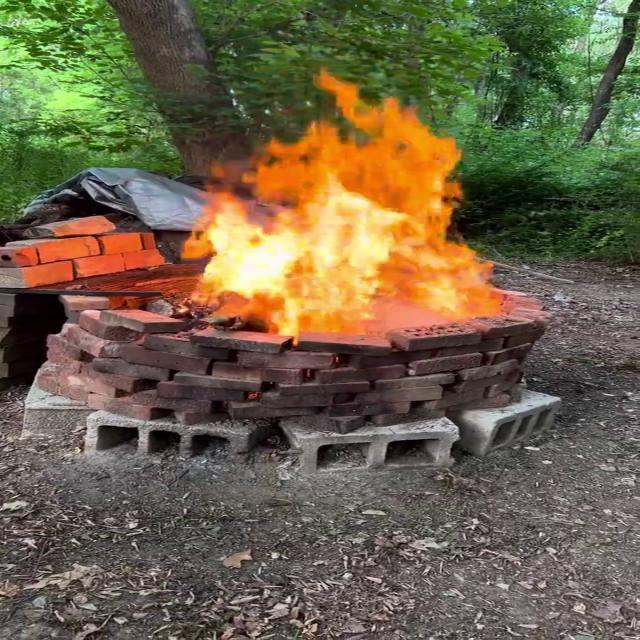Fire: (178, 71, 520, 342)
